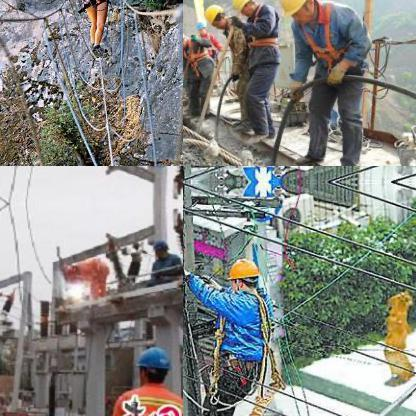Helmet: (135, 342, 171, 384), (224, 254, 258, 290), (274, 0, 321, 24), (203, 2, 227, 26), (229, 0, 257, 17), (149, 236, 169, 256), (192, 18, 206, 34), (183, 27, 189, 47)
